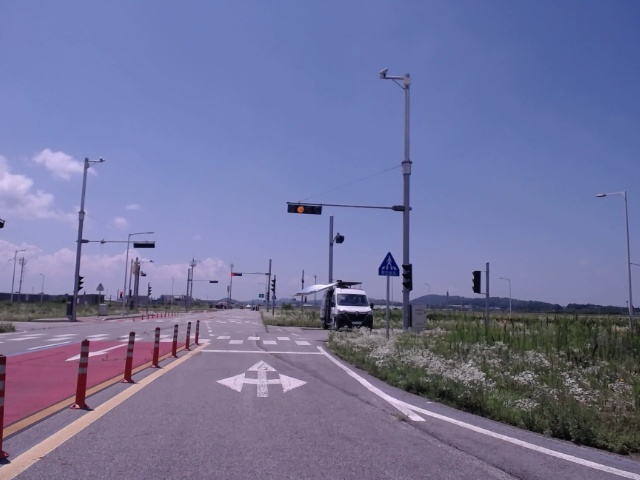orange_4: (287, 203, 324, 216)
